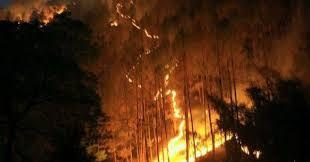fire: (148, 69, 239, 159), (106, 2, 161, 42), (0, 1, 70, 24)
